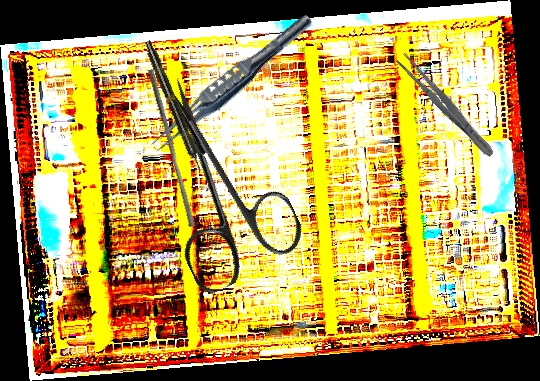Dressing Forceps: (393, 50, 499, 162)
Handpiece: (141, 38, 207, 176)
Iris Scissors: (114, 57, 312, 298)
Pusher: (141, 68, 201, 228)
Tissue Forceps: (145, 6, 317, 161)
